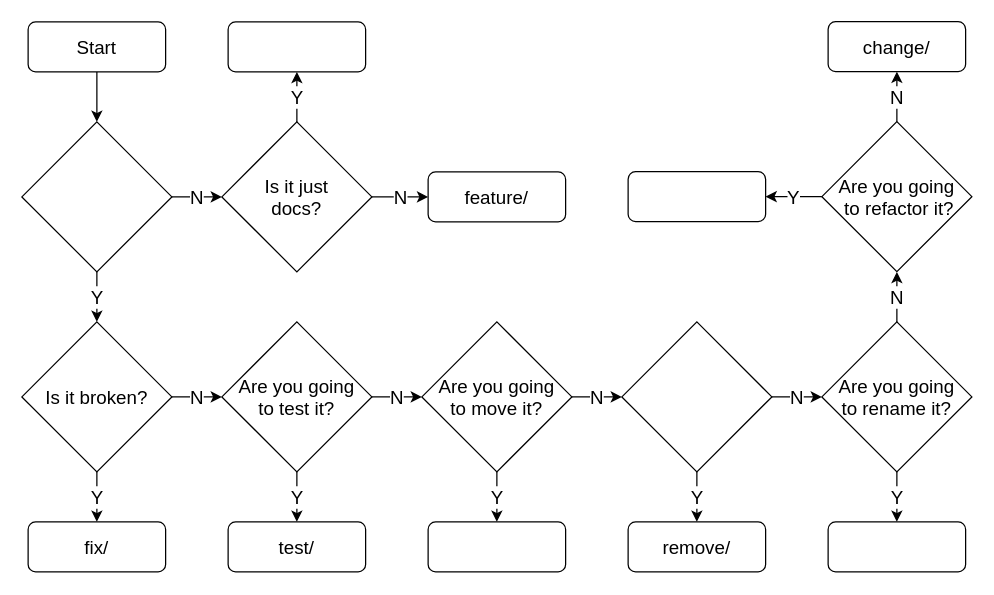
Image size: 994x595. Some labels were removed from this diagram. The shapes that lost their labels are listed below. From the top down, each one's box as (x1, y1, x2, y2) in pixels, then its label:
(227, 21, 366, 72): docs/
(21, 121, 172, 272): Does it exist?
(627, 170, 766, 222): refactor/
(621, 321, 772, 472): Are you going to remove it?
(427, 521, 566, 572): move/
(827, 521, 966, 572): rename/
